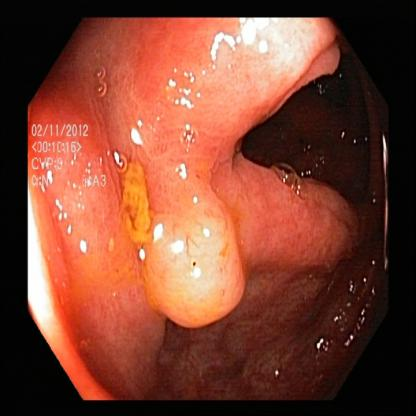Labels: (26, 118, 128, 214)
Polyps: (150, 171, 236, 320), (238, 170, 340, 272)
